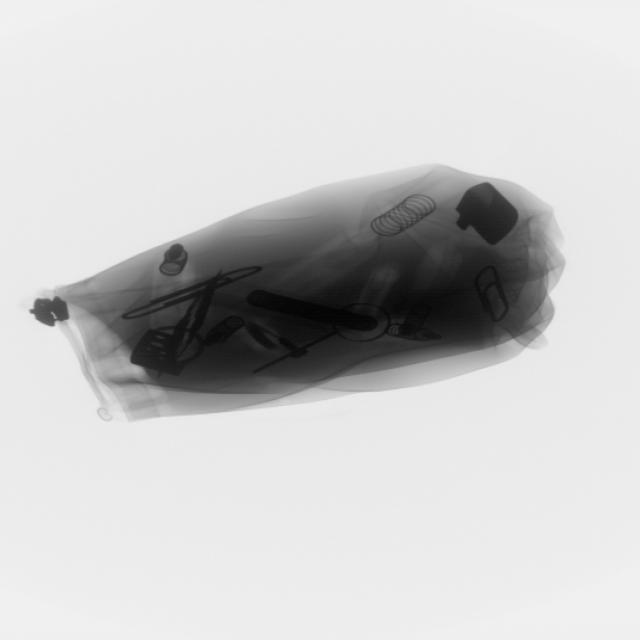BLADE: (155, 269, 223, 373)
